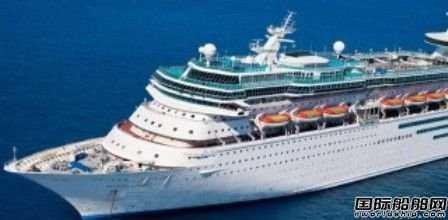youlun: (3, 14, 448, 220)
